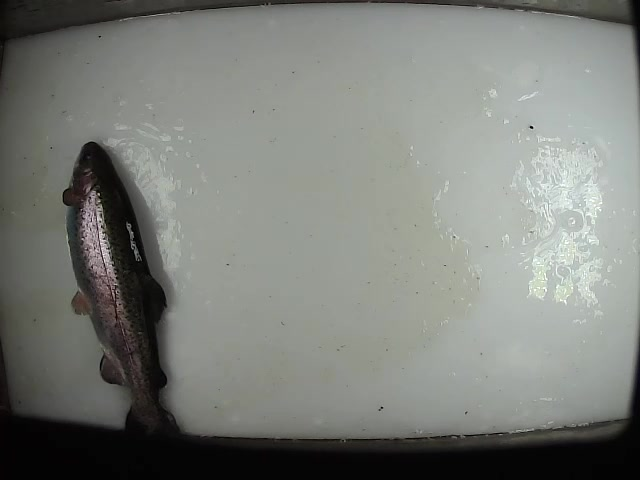fish: (61, 139, 184, 445)
